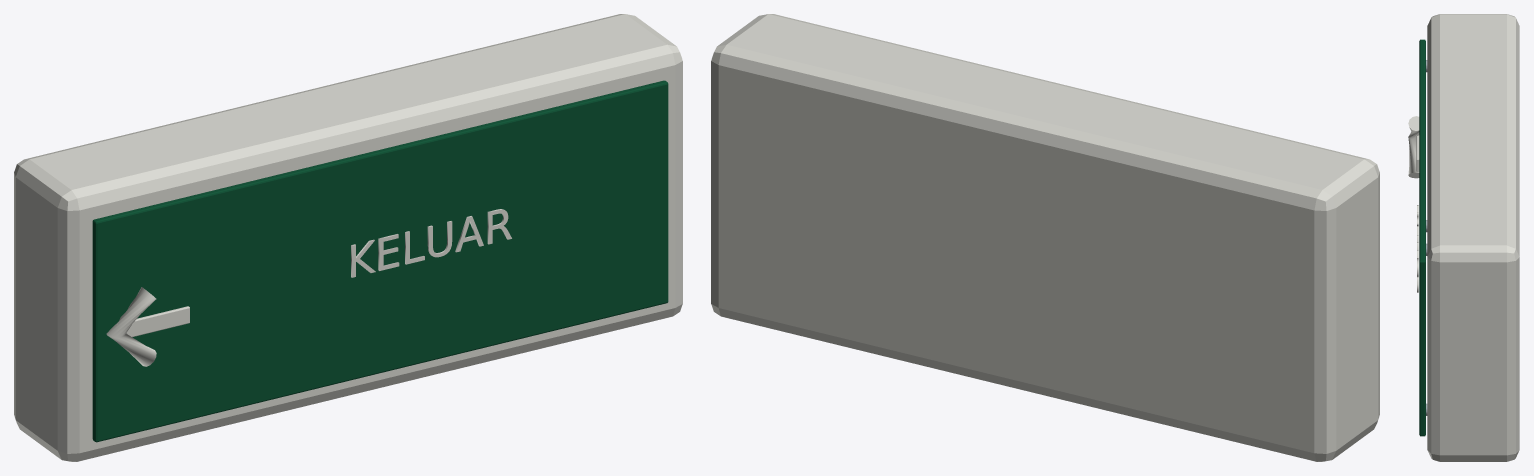
Rendered from OAA_ExitLight.fbx.
3 views of the same model, side by side, from view 1: azimuth 30°, elevation 25°; view 2: azimuth 150°, elevation 25°; view 3: azimuth 270°, elevation 25° (orthographic). The views are drawn at different scales.
Parts seen in each view (by area): view 1: Body; view 2: Body; view 3: Body.
Part boxes in pixels (x1,y1,x2,y2): Body: [14, 14, 682, 461]; Body: [711, 14, 1379, 461]; Body: [1408, 14, 1519, 461].
Size of the model in its own units: 0.36 by 0.15 by 0.07.
